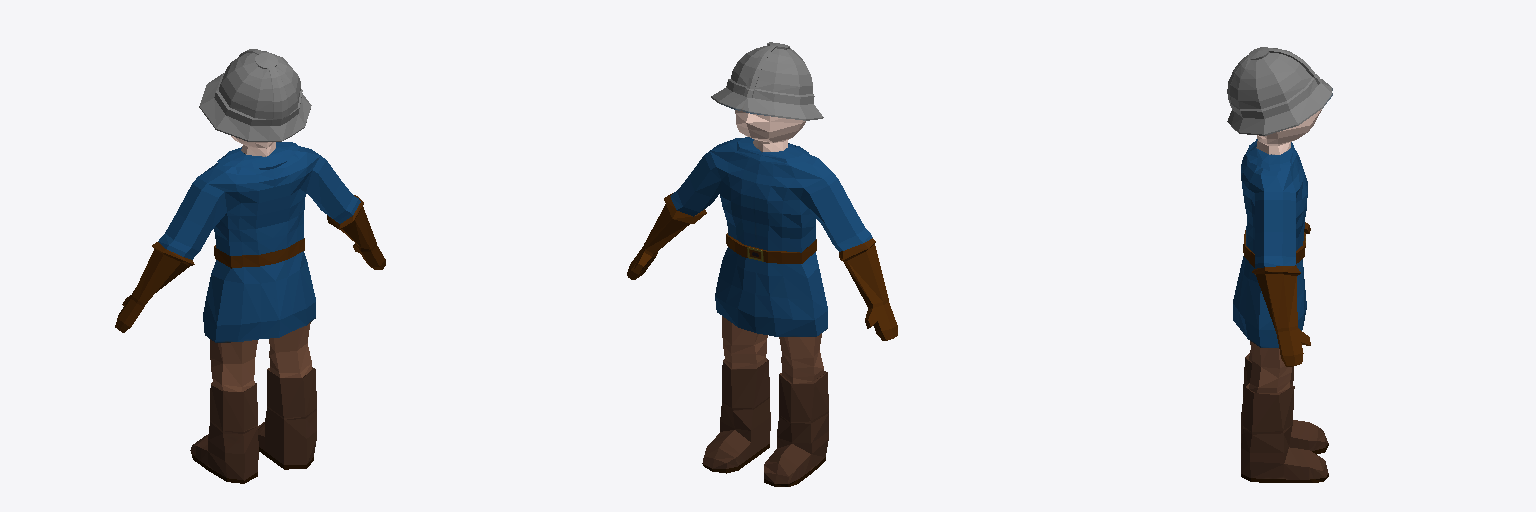
The picture shows the model from 3 angles: view 1: azimuth 30°, elevation 25°; view 2: azimuth 150°, elevation 25°; view 3: azimuth 270°, elevation 25°; orthographic projection.
Parts seen in each view (by area): view 1: Cylinder_Cylinder.001; view 2: Cylinder_Cylinder.001; view 3: Cylinder_Cylinder.001.
Part boxes in pixels (left/top/right/bottom): Cylinder_Cylinder.001: left=115, top=49, right=385, bottom=483; Cylinder_Cylinder.001: left=627, top=42, right=897, bottom=486; Cylinder_Cylinder.001: left=1227, top=47, right=1332, bottom=482.
Size of the model in its own units: 0.9203 by 1.36 by 0.3163.
1 materials, 1 textured.